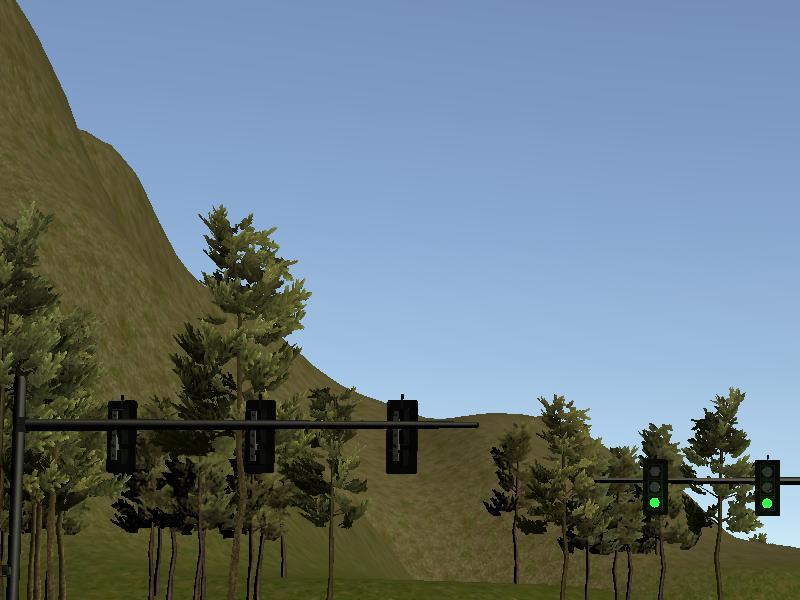Green: (641, 460, 665, 517), (756, 461, 779, 516)
